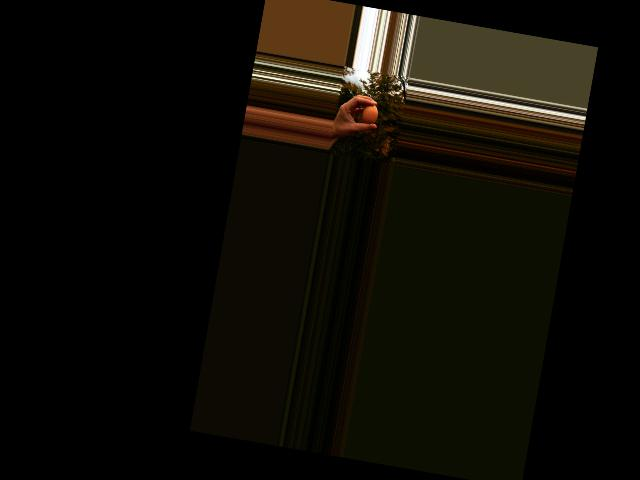egg: (361, 102, 379, 125)
